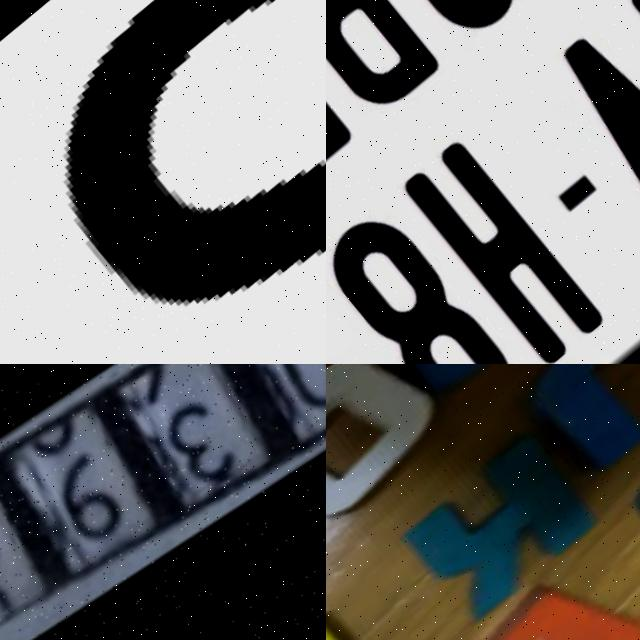0: (255, 364, 326, 432)
3: (149, 377, 278, 504)
5: (326, 0, 378, 193)
8: (326, 192, 558, 364), (0, 488, 34, 602)
9: (37, 439, 160, 559)
E: (428, 533, 640, 640)
H: (391, 129, 628, 364)
J: (498, 364, 640, 490)
K: (394, 429, 604, 629)
P: (354, 364, 586, 404)
Q: (326, 364, 465, 561)
R: (326, 0, 462, 125)
S: (0, 0, 326, 364)
V: (525, 5, 640, 253)
